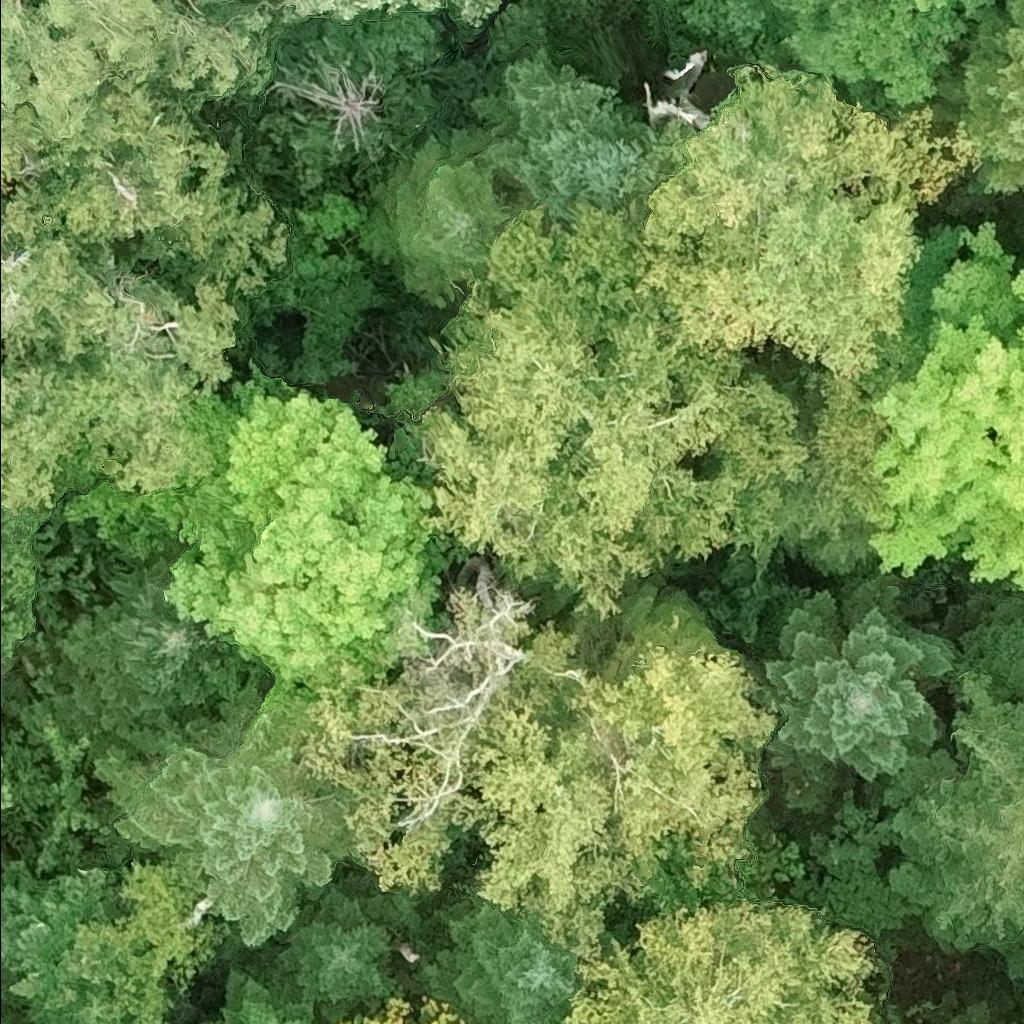crown: (413, 198, 886, 619), (0, 82, 287, 517), (616, 58, 983, 383), (143, 379, 448, 719), (457, 638, 775, 960), (282, 579, 582, 901), (855, 220, 1023, 592), (98, 717, 356, 952), (869, 591, 1023, 979), (745, 575, 959, 816), (549, 890, 877, 1023), (0, 0, 270, 140), (54, 557, 246, 743), (468, 42, 658, 224), (355, 126, 523, 312), (770, 0, 996, 118), (248, 872, 406, 1023), (922, 0, 1023, 213), (417, 897, 578, 1023), (219, 0, 504, 57), (195, 966, 319, 1023), (0, 508, 42, 659), (339, 990, 469, 1023), (917, 985, 1023, 1023), (0, 748, 22, 823), (885, 1007, 906, 1023), (0, 841, 4, 888), (994, 0, 998, 2), (319, 1022, 322, 1023)
